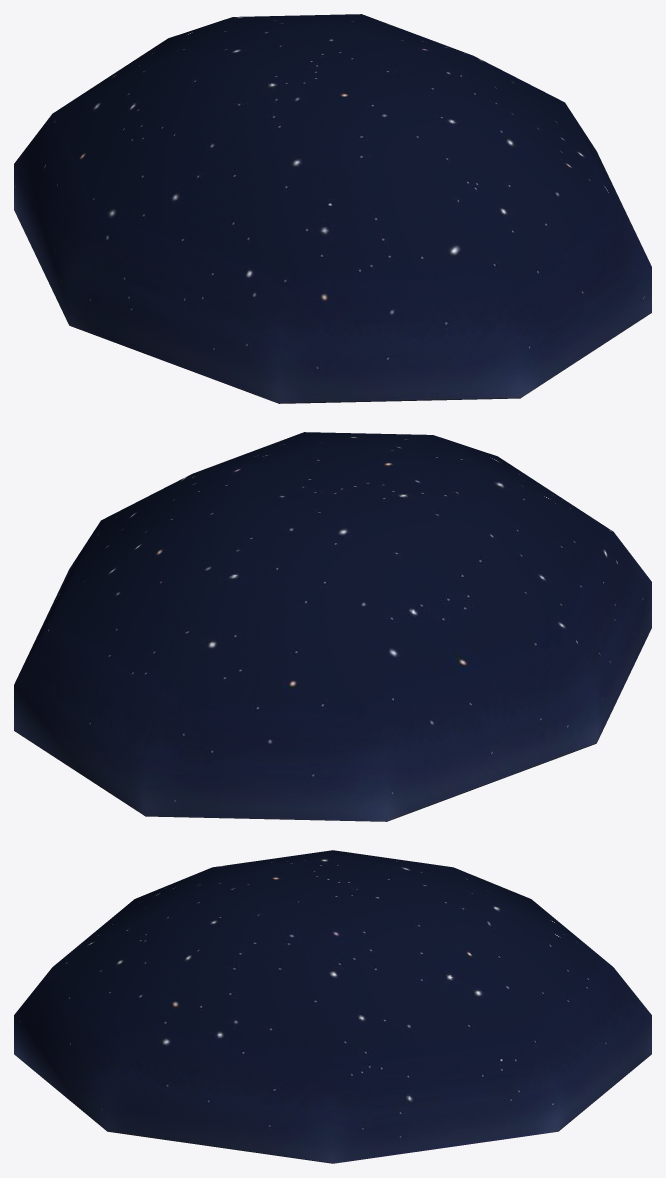
Rendered from Dome_Mesh.fbx.
3 views of the same model, one above another, from view 1: azimuth 30°, elevation 25°; view 2: azimuth 150°, elevation 25°; view 3: azimuth 270°, elevation 25° (orthographic). The views are drawn at different scales.
Parts seen in each view (by area): view 1: polySurface246; view 2: polySurface246; view 3: polySurface246.
Boxes of the visible parts, bbox=[...] form: polySurface246: bbox=[14, 14, 651, 403]; polySurface246: bbox=[14, 432, 651, 821]; polySurface246: bbox=[14, 850, 651, 1163].
Size of the model in its own units: 5221 by 1853 by 6428.
1 material, 1 textured.
